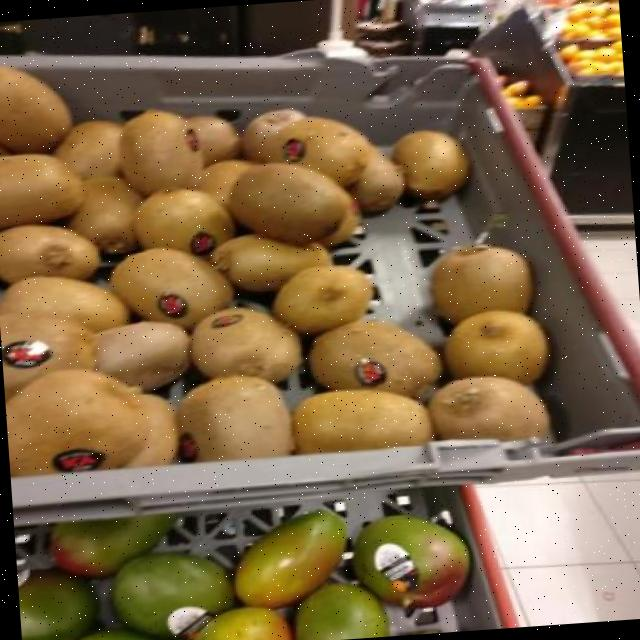kiwi: (7, 371, 146, 475), (229, 162, 350, 244), (113, 248, 233, 329), (312, 321, 439, 397), (179, 377, 294, 460), (293, 391, 432, 453), (1, 315, 94, 398), (193, 308, 298, 381), (432, 246, 530, 322), (445, 312, 547, 384), (431, 377, 548, 439), (0, 277, 129, 332), (120, 110, 203, 195), (211, 234, 331, 291), (273, 266, 371, 333), (280, 116, 372, 186), (96, 321, 189, 389), (134, 190, 232, 254), (0, 68, 71, 153), (0, 157, 81, 228), (68, 176, 141, 252), (0, 226, 98, 281), (392, 130, 469, 199), (54, 120, 123, 179), (126, 395, 178, 466), (243, 108, 306, 162), (351, 150, 404, 213), (197, 160, 254, 205), (318, 192, 361, 247), (190, 116, 236, 163)
